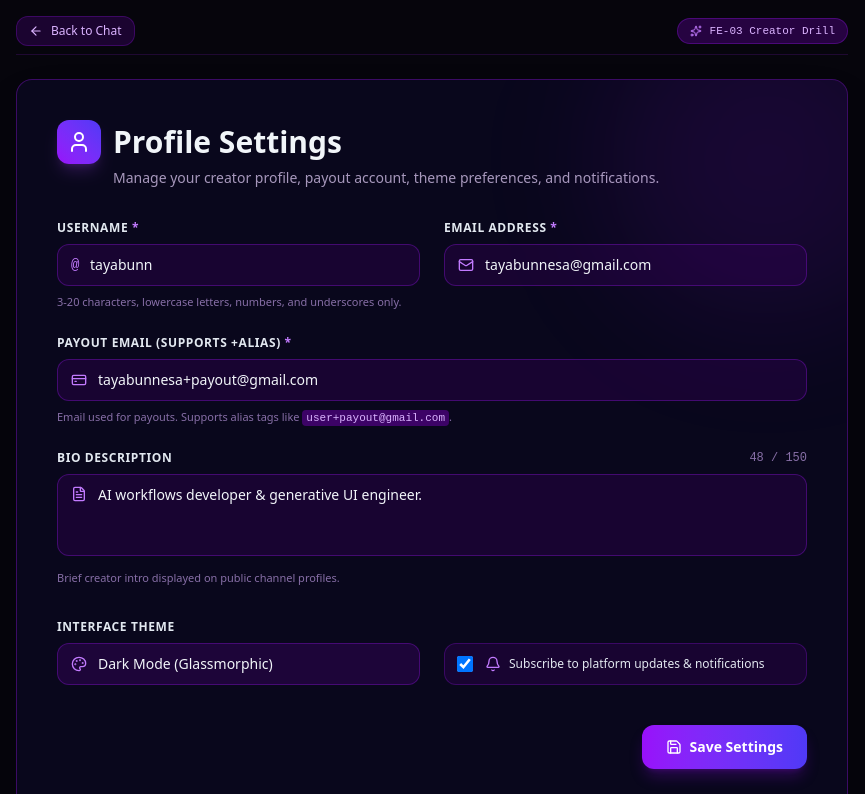
Test: UserProfileSettings Component › validates invalid email format
Replace the text in the field labelled "Email Address *" with "bad-email" at (626, 265), box top-left (444, 244), bottom-right (807, 286)
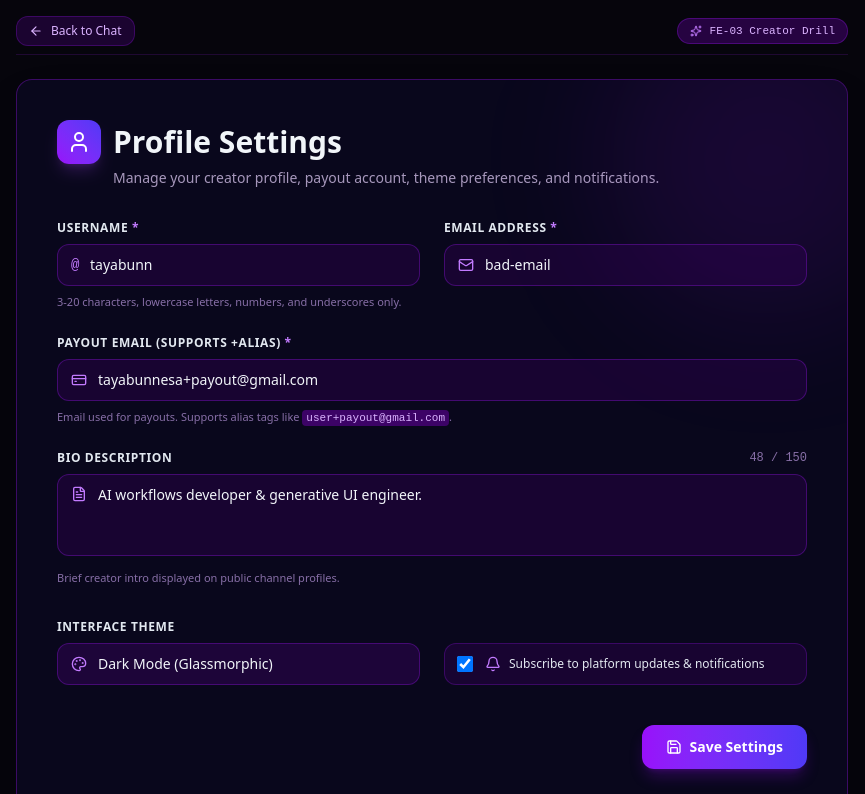
Leave the field labelled "Email Address *", box top-left (444, 244), bottom-right (807, 286)
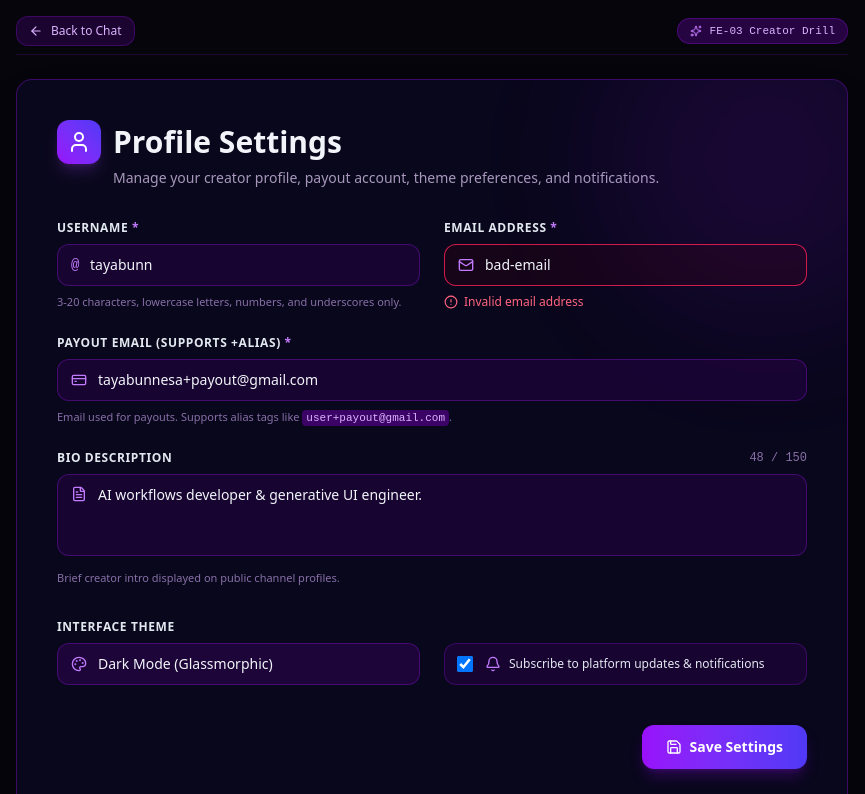
Now the text "Invalid email address" is shown, box top-left (464, 294), bottom-right (584, 310)
